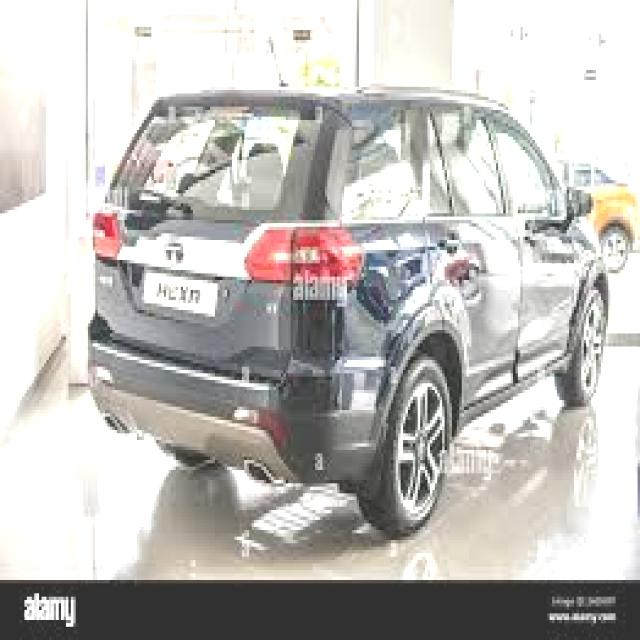SUV: (86, 85, 614, 541)
